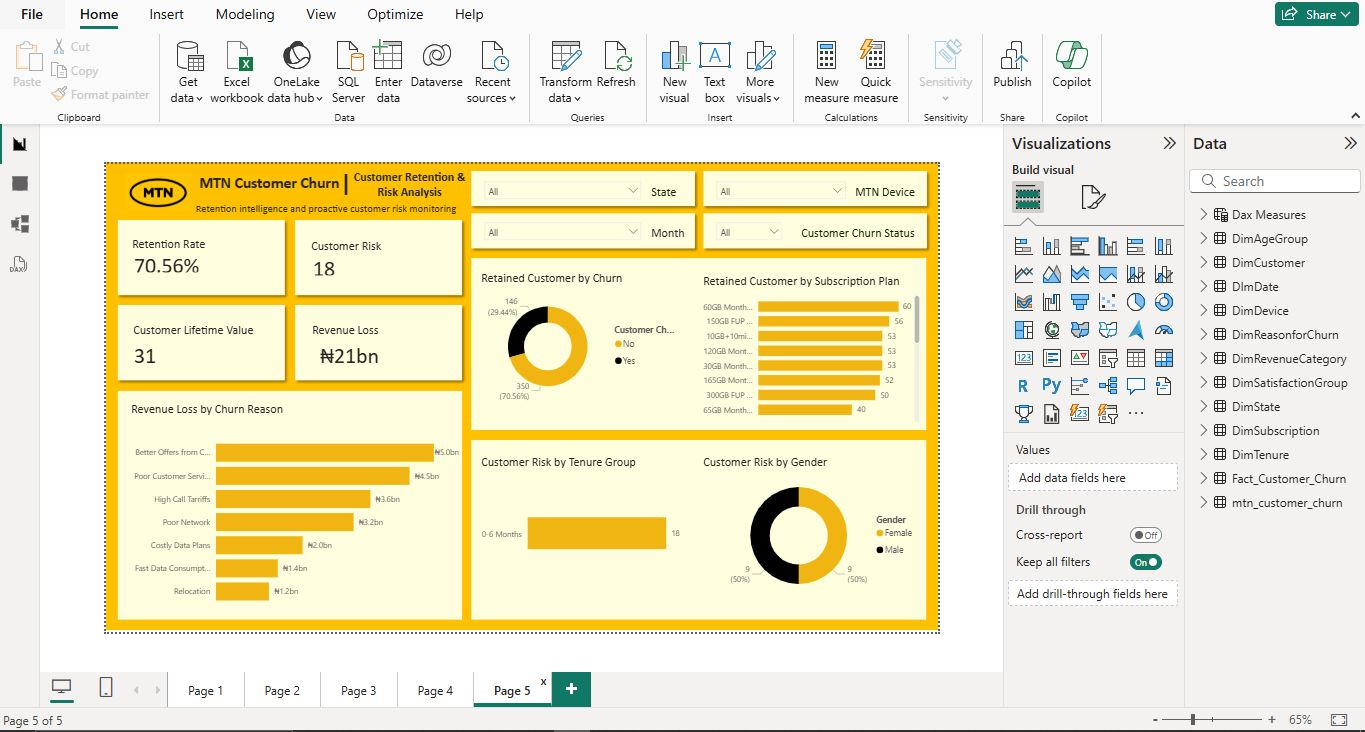

The page's visual inventory and layout, read from the dashboard file:
{"tool":"powerbi","page":{"name":"Page 5","canvas":[1280,720],"ordinal":4},"visuals":[{"type":"textbox","box":[834.3,26.9,215.7,52.9],"z":0},{"type":"slicer","fields":{"Values":["DimDevice.MTN Device"]},"box":[928.6,16.9,218.6,47.1],"z":1000},{"type":"slicer","fields":{"Values":["Fact_Customer_Churn.Customer Churn Status"]},"box":[928.6,79.7,121.4,47.1],"z":2000},{"type":"textbox","box":[1064.3,89.7,192.9,42.9],"z":3000},{"type":"textbox","box":[834.3,89.7,108.6,42.9],"z":4000},{"type":"textbox","box":[1147.2,26.9,110,52.9],"z":5000},{"type":"slicer","fields":{"Values":["DimState.State"]},"box":[572.9,16.9,261.4,47.1],"z":6000},{"type":"slicer","fields":{"Values":["DImDate.Month Name"]},"box":[572.9,79.7,261.4,47.1],"z":7000},{"type":"cardVisual","fields":{"Data":["Dax Measures.Retention Rate"]},"box":[25.7,111.2,177.1,61.4],"z":8000},{"type":"textbox","box":[35.7,105.4,215.7,52.9],"z":9000},{"type":"cardVisual","fields":{"Data":["Dax Measures.Customer Risk"]},"box":[301.4,115.1,177.1,61.4],"z":10000},{"type":"textbox","box":[311.4,109.4,215.7,52.9],"z":11000},{"type":"cardVisual","fields":{"Data":["Dax Measures.Customer Lifetime Value"]},"box":[26.1,249.3,176.8,62.3],"z":12000},{"type":"textbox","box":[36.2,239.1,214.5,52.2],"z":13000},{"type":"cardVisual","fields":{"Data":["Dax Measures.Revenue Lost"]},"box":[311.6,249.3,176.8,62.3],"z":14000},{"type":"textbox","box":[311.6,239.1,215.9,53.6],"z":15000},{"type":"textbox","box":[34.3,359.7,265.7,52.9],"z":16000},{"type":"donutChart","fields":{"Category":["Fact_Customer_Churn.Customer Churn Status"],"Y":["DimCustomer.Customer Count"]},"box":[572.9,158.3,315.7,244.3],"z":17000},{"type":"clusteredBarChart","fields":{"Category":["DimSubscription.Subscription Plan"],"Y":["Dax Measures.Retained Customer"]},"box":[901.4,189.9,355.1,213],"z":18000},{"type":"donutChart","fields":{"Y":["Dax Measures.Customer Risk"],"Category":["DimCustomer.Gender"]},"box":[941.4,441.2,314.3,260],"z":19000},{"type":"clusteredBarChart","fields":{"Category":["DimTenure.Tenure_Group"],"Y":["Dax Measures.Customer Risk"]},"box":[568.1,440.6,320.3,250.7],"z":20000},{"type":"clusteredBarChart","fields":{"Category":["DimReasonforChurn.Reasons for Churn"],"Y":["Dax Measures.Revenue Lost"]},"box":[26.1,402.9,521.7,288.4],"z":21000},{"type":"textbox","box":[572.9,158.3,265.7,52.9],"z":22000},{"type":"textbox","box":[914.3,162.6,341.4,52.9],"z":23000},{"type":"textbox","box":[572.9,441.2,265.7,52.9],"z":24000},{"type":"textbox","box":[914.3,441.2,265.7,52.9],"z":25000},{"type":"image","box":[0,8.7,159.4,68.1],"z":26000},{"type":"textbox","box":[139.1,8.7,250.7,44.9],"z":27000},{"type":"textbox","box":[372.5,2.9,189.9,73.9],"z":28000},{"type":"textbox","box":[355.1,0,39.1,84.1],"z":29000},{"type":"textbox","box":[129,53.6,418.8,60.9],"z":30000}]}

Visuals, with their boxes on the page's 1280x720 design canvas (x1, y1, x2, y2). These are canvas units, not pixel positions in the 1365x732 screenshot, which may show the page scaled, cropped or inside an application window:
textbox: locate(834, 27, 1050, 80)
slicer - DimDevice.MTN Device: locate(929, 17, 1147, 64)
slicer - Fact_Customer_Churn.Customer Churn Status: locate(929, 80, 1050, 127)
textbox: locate(1064, 90, 1257, 133)
textbox: locate(834, 90, 943, 133)
textbox: locate(1147, 27, 1257, 80)
slicer - DimState.State: locate(573, 17, 834, 64)
slicer - DImDate.Month Name: locate(573, 80, 834, 127)
cardVisual - Dax Measures.Retention Rate: locate(26, 111, 203, 173)
textbox: locate(36, 105, 251, 158)
cardVisual - Dax Measures.Customer Risk: locate(301, 115, 478, 176)
textbox: locate(311, 109, 527, 162)
cardVisual - Dax Measures.Customer Lifetime Value: locate(26, 249, 203, 312)
textbox: locate(36, 239, 251, 291)
cardVisual - Dax Measures.Revenue Lost: locate(312, 249, 488, 312)
textbox: locate(312, 239, 528, 293)
textbox: locate(34, 360, 300, 413)
donutChart - Fact_Customer_Churn.Customer Churn Status x DimCustomer.Customer Count: locate(573, 158, 889, 403)
clusteredBarChart - DimSubscription.Subscription Plan x Dax Measures.Retained Customer: locate(901, 190, 1256, 403)
donutChart - Dax Measures.Customer Risk x DimCustomer.Gender: locate(941, 441, 1256, 701)
clusteredBarChart - DimTenure.Tenure_Group x Dax Measures.Customer Risk: locate(568, 441, 888, 691)
clusteredBarChart - DimReasonforChurn.Reasons for Churn x Dax Measures.Revenue Lost: locate(26, 403, 548, 691)
textbox: locate(573, 158, 839, 211)
textbox: locate(914, 163, 1256, 216)
textbox: locate(573, 441, 839, 494)
textbox: locate(914, 441, 1180, 494)
image: locate(0, 9, 159, 77)
textbox: locate(139, 9, 390, 54)
textbox: locate(372, 3, 562, 77)
textbox: locate(355, 0, 394, 84)
textbox: locate(129, 54, 548, 114)
